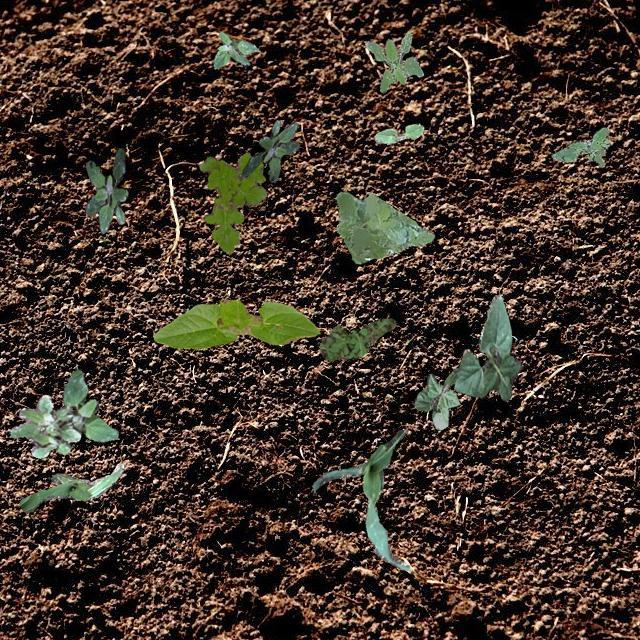crop: (312, 428, 408, 570), (152, 298, 318, 348), (454, 294, 522, 399), (18, 462, 122, 512), (414, 368, 458, 428), (373, 122, 422, 142)
weed: (334, 190, 434, 262), (198, 152, 266, 252), (9, 393, 80, 458), (62, 368, 118, 441), (240, 120, 298, 182), (364, 30, 422, 91), (84, 148, 126, 232), (318, 316, 394, 359), (550, 126, 608, 166), (212, 31, 258, 68)
